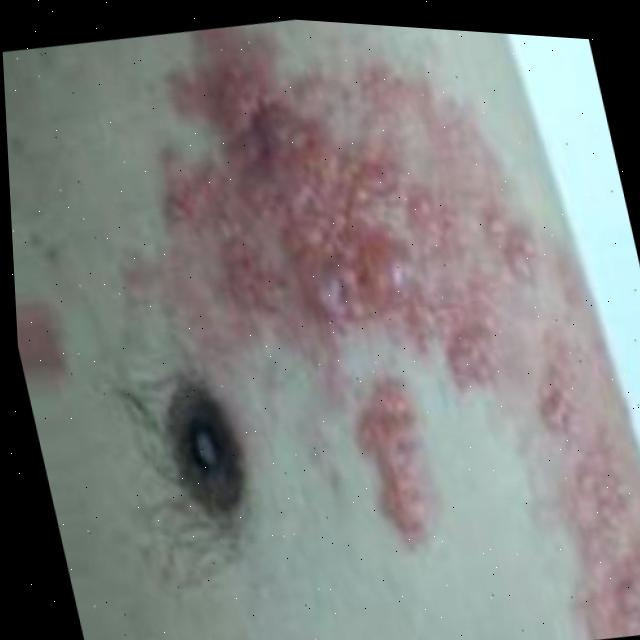Shingles: (137, 21, 566, 443), (535, 373, 640, 640), (343, 369, 456, 564)
